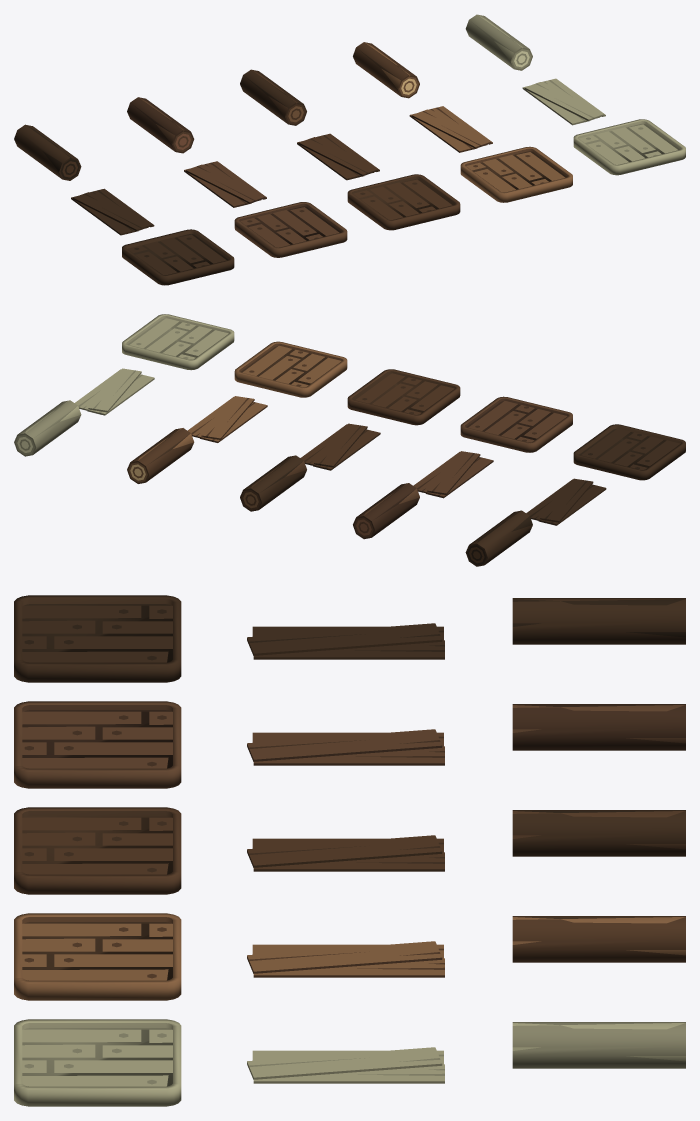
Rendered from Wood.fbx.
3 views of the same model, one above another, from view 1: azimuth 30°, elevation 25°; view 2: azimuth 150°, elevation 25°; view 3: azimuth 270°, elevation 25° (orthographic). The views are drawn at different scales.
Visible parts, largest first — view 1: OakWoodTileItem, WoodTileItem, DarkWoodTileItem, BleachedWoodTileItem, BirchWoodTileItem, WalnutLog, ChestnutLog, BirchLog, BleachedLog, OakLog, BleachedPlank, BirchPlank (+3 smaller); view 2: OakWoodTileItem, BleachedWoodTileItem, DarkWoodTileItem, BirchWoodTileItem, WoodTileItem, BirchLog, WalnutLog, OakLog, OakPlank, ChestnutLog, BleachedLog, WalnutPlank (+3 smaller); view 3: DarkWoodTileItem, BirchWoodTileItem, WoodTileItem, OakWoodTileItem, BleachedWoodTileItem, WalnutLog, ChestnutLog, OakLog, BleachedLog, BirchLog, BleachedPlank, BirchPlank (+3 smaller).
Part boxes in pixels (box(x1,y1,x2,y2)): OakWoodTileItem: box(347, 174, 460, 230); WoodTileItem: box(234, 202, 347, 257); DarkWoodTileItem: box(122, 229, 234, 285); BleachedWoodTileItem: box(460, 146, 572, 202); BirchWoodTileItem: box(573, 119, 685, 175); WalnutLog: box(14, 124, 81, 180); ChestnutLog: box(127, 97, 194, 153); BirchLog: box(465, 14, 532, 70); BleachedLog: box(353, 42, 419, 98); OakLog: box(240, 69, 306, 125); BleachedPlank: box(409, 106, 492, 152); BirchPlank: box(522, 78, 605, 125); OakWoodTileItem: box(347, 369, 460, 425); BleachedWoodTileItem: box(234, 341, 347, 397); DarkWoodTileItem: box(573, 424, 685, 480); BirchWoodTileItem: box(122, 314, 234, 370); WoodTileItem: box(460, 396, 572, 452); BirchLog: box(14, 400, 81, 456); WalnutLog: box(465, 510, 532, 566); OakLog: box(240, 455, 306, 511); OakPlank: box(300, 423, 380, 470); ChestnutLog: box(353, 483, 419, 539); BleachedLog: box(127, 428, 194, 483); WalnutPlank: box(526, 478, 606, 525); DarkWoodTileItem: box(14, 595, 181, 682); BirchWoodTileItem: box(14, 1019, 181, 1106); WoodTileItem: box(14, 701, 181, 788); OakWoodTileItem: box(14, 807, 181, 894); BleachedWoodTileItem: box(14, 913, 181, 1000); WalnutLog: box(512, 598, 685, 644); ChestnutLog: box(512, 704, 685, 750); OakLog: box(512, 810, 685, 856); BleachedLog: box(512, 916, 685, 962); BirchLog: box(512, 1022, 685, 1068); BleachedPlank: box(247, 941, 444, 977); BirchPlank: box(247, 1047, 444, 1083).
Bounding box in the file's own units: 4.67 × 0.2124 × 2.68.
